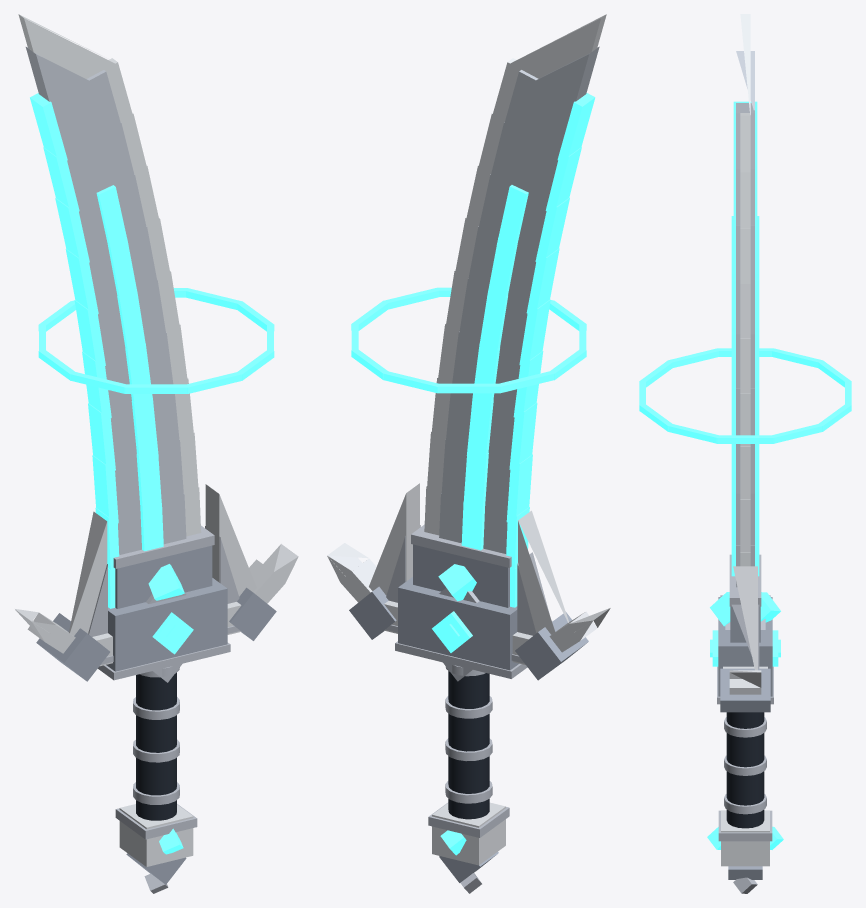
The picture shows the model from 3 angles, left to right: view 1: azimuth 30°, elevation 25°; view 2: azimuth 150°, elevation 25°; view 3: azimuth 270°, elevation 25°; orthographic projection. The views are drawn at different scales.
Parts seen in each view (by area): view 1: await-lab-saber; view 2: await-lab-saber; view 3: await-lab-saber.
Boxes of the visible parts, bbox=[...] form: await-lab-saber: bbox=[15, 14, 298, 893]; await-lab-saber: bbox=[327, 14, 610, 893]; await-lab-saber: bbox=[639, 14, 851, 893].
Size of the model in its own units: 0.3738 by 1.21 by 0.2842.
